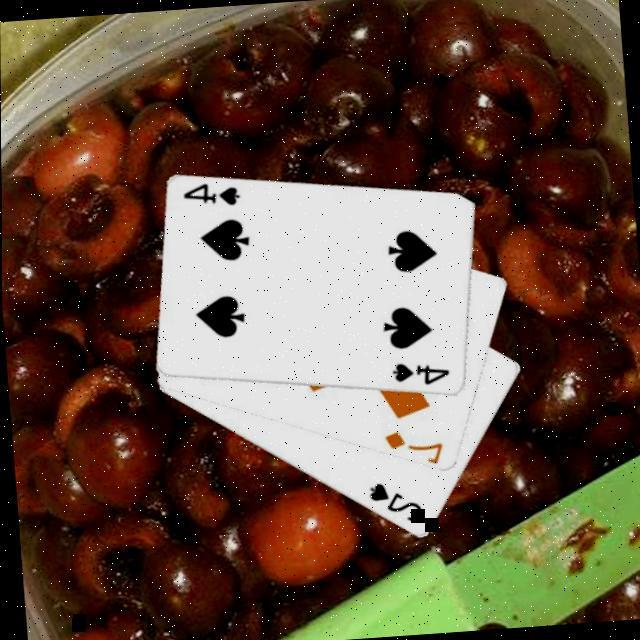2S: (364, 478, 426, 530)
4S: (389, 358, 453, 392), (180, 180, 243, 213)
7D: (380, 426, 447, 469)
